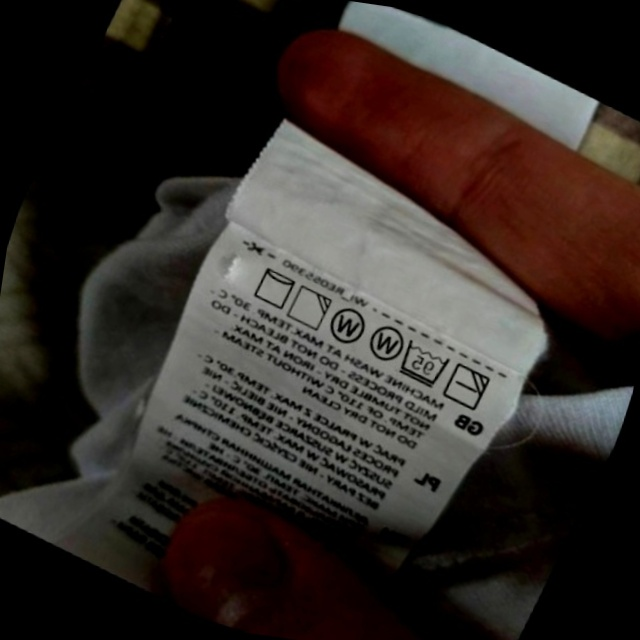95C: (390, 333, 457, 394)
dry_flat_in_shade: (437, 356, 497, 417)
line_dry: (245, 259, 303, 316)
shade_dry: (281, 278, 338, 337)
wet_clean: (319, 298, 375, 355), (358, 313, 413, 370)
